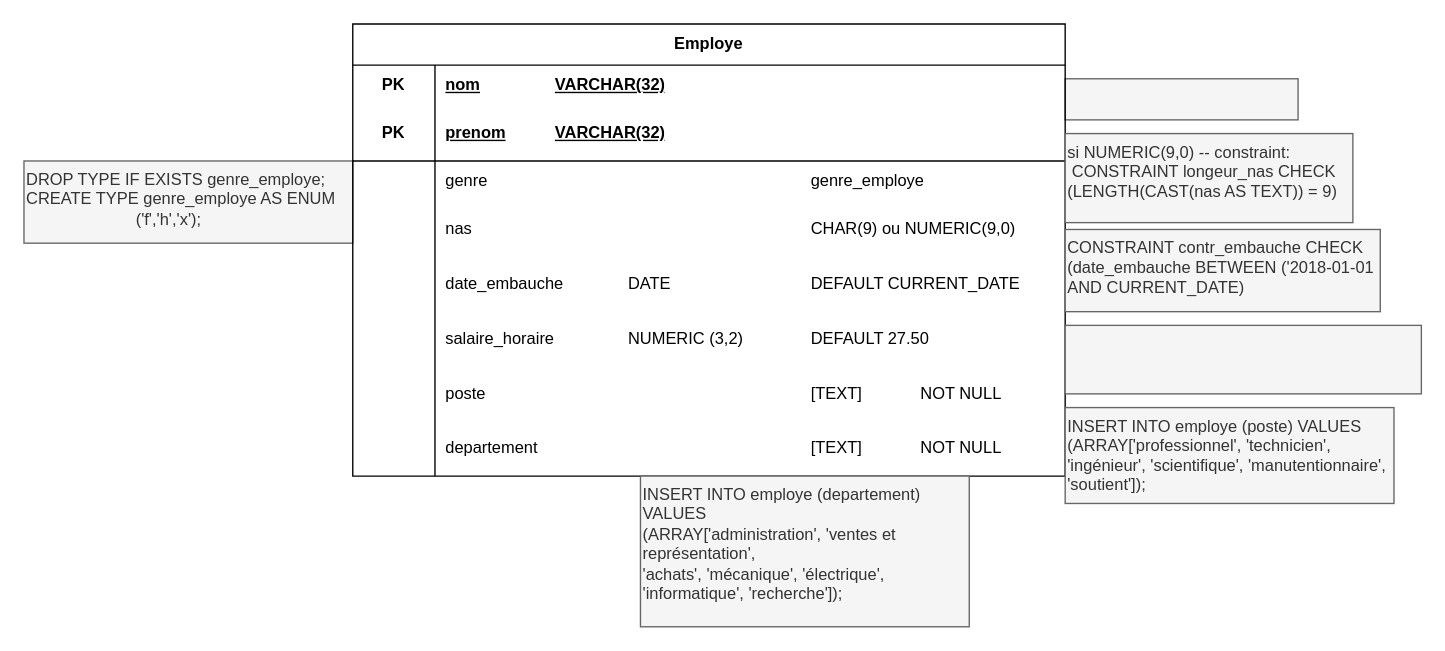
Image size: 1445x651. Some labels were removed from this diagram. Each missing label, with the centre of its shape:
"CONSTRAINT contr_salaire CHECK (salaire_horaire BETWEEN (15.00 AND 250.00)" goes at point 1242,359.
"PRIMARY KEY (nom, prenom)" goes at point 1181,98.
